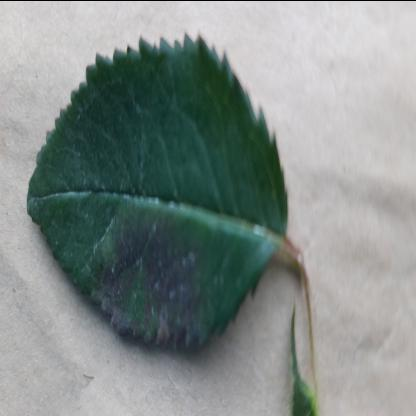downy-mildew: (29, 38, 289, 352)
